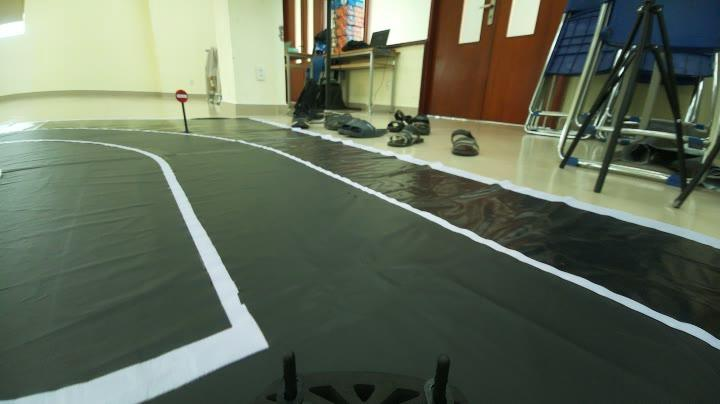no_entry: (170, 89, 190, 107)
